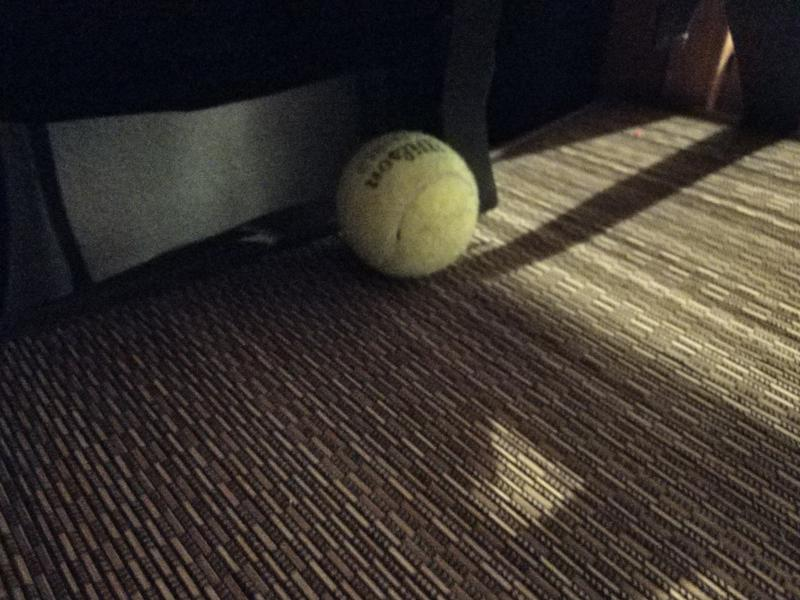Tennisball: (329, 128, 481, 283)
